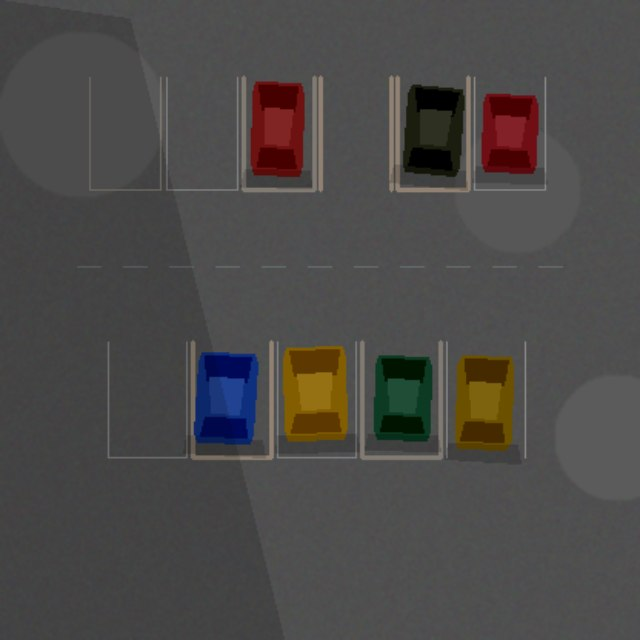space-empty: (108, 342, 186, 457), (89, 77, 160, 189), (166, 77, 237, 189), (320, 77, 391, 189)
space-occupied: (192, 342, 271, 457), (446, 342, 525, 457), (277, 342, 355, 457), (362, 342, 440, 457), (243, 77, 314, 189), (397, 77, 468, 189), (474, 77, 545, 189)
